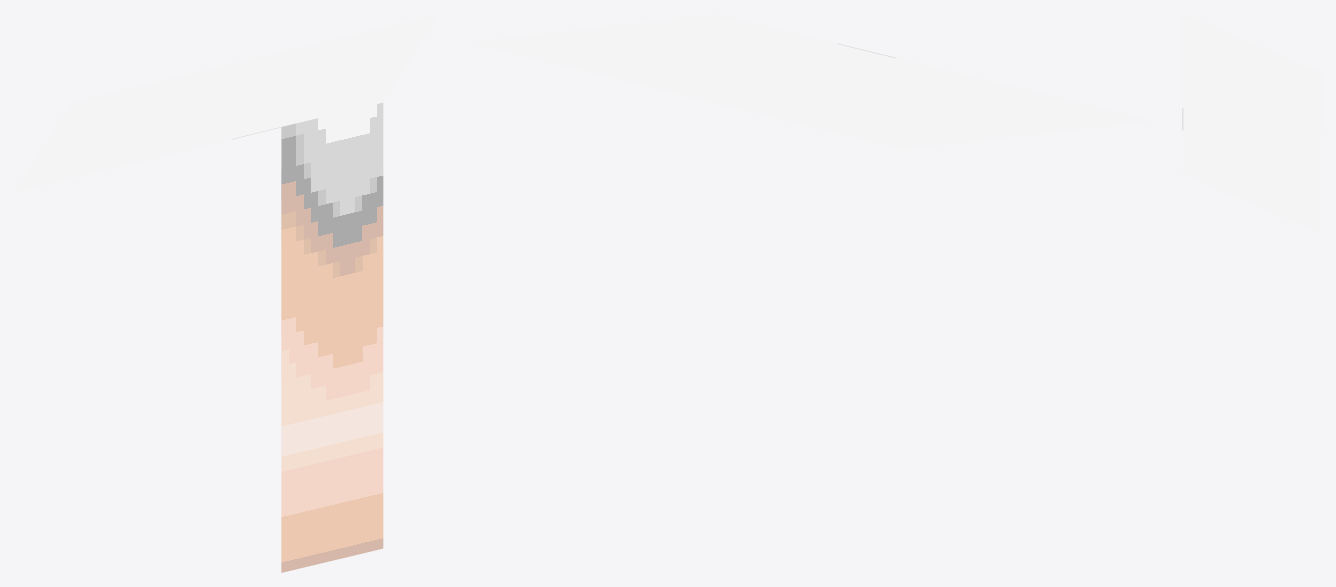
3 renders of one model, left to right at view 1: azimuth 30°, elevation 25°; view 2: azimuth 150°, elevation 25°; view 3: azimuth 270°, elevation 25°, orthographic. The views are drawn at different scales.
Size of the model in its own units: 1.87 by 1.59 by 0.5044.
Materials: 1 (1 with a texture image).
